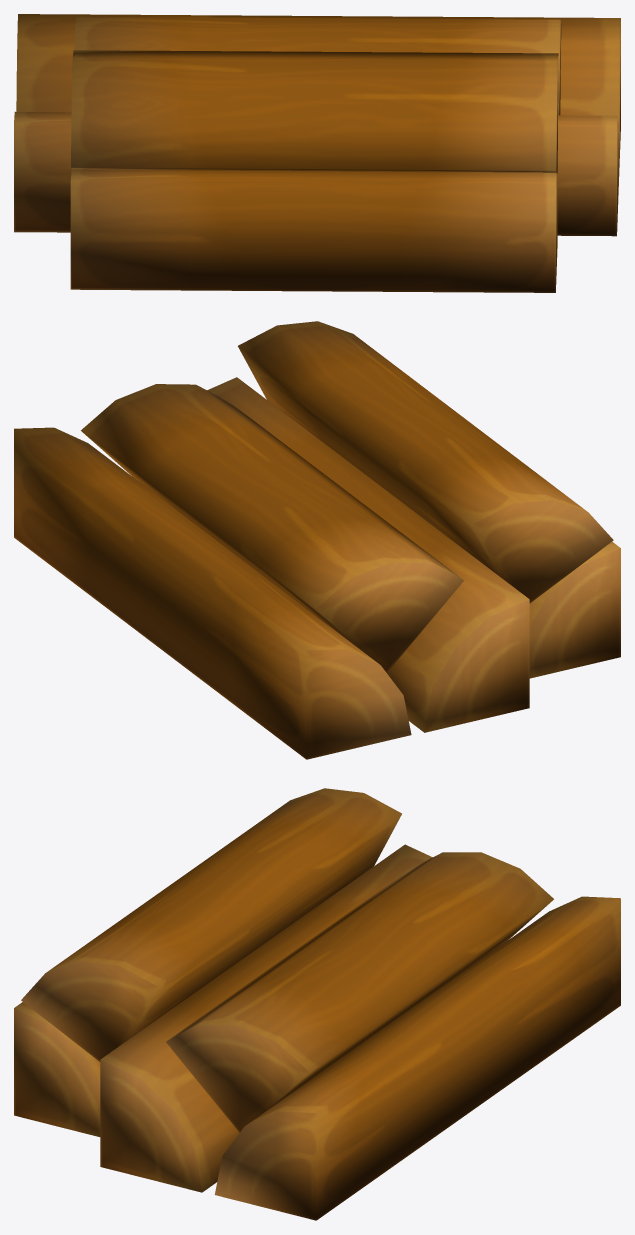
Rendered from Troncos 02.fbx.
3 views of the same model, one above another, from view 1: azimuth 30°, elevation 25°; view 2: azimuth 150°, elevation 25°; view 3: azimuth 270°, elevation 25° (orthographic).
Parts seen in each view (by area): view 1: Tronco.002; view 2: Tronco.002; view 3: Tronco.002.
Boxes of the visible parts, x1,y1,x2,y2 form: Tronco.002: (14, 14, 620, 292); Tronco.002: (14, 321, 620, 759); Tronco.002: (14, 788, 620, 1220).
Size of the model in its own units: 131 by 38.94 by 121.
